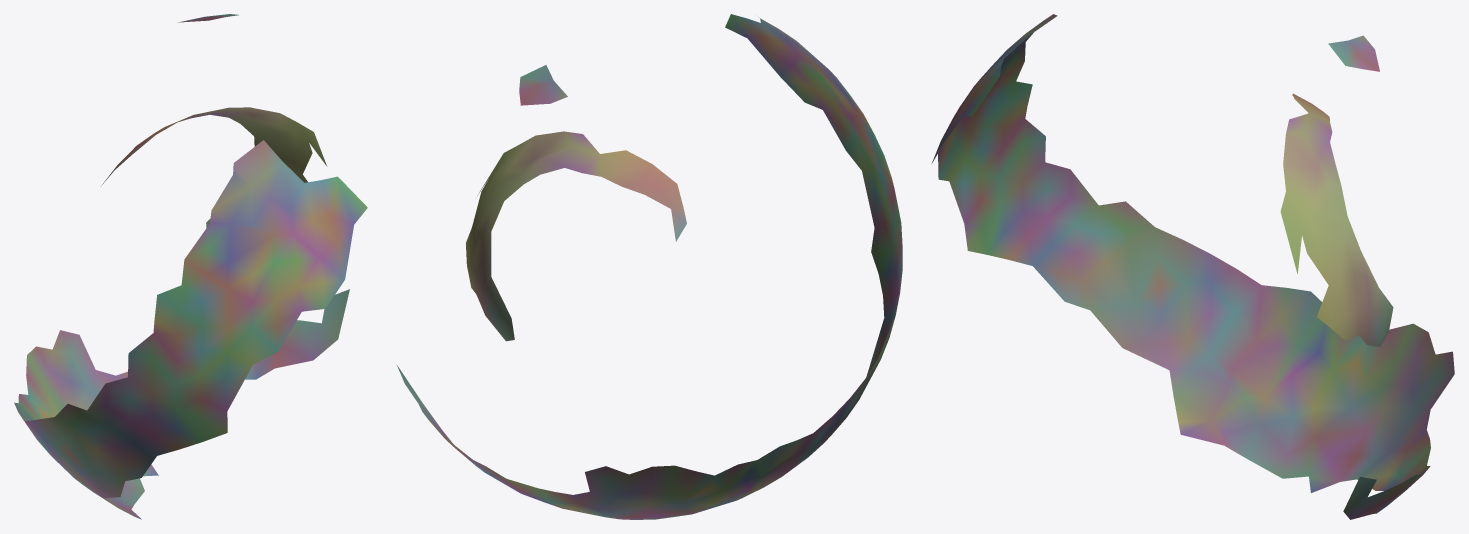
File: space-nebulae-nebula_v26.glb
3 renders of one model, left to right at view 1: azimuth 30°, elevation 25°; view 2: azimuth 150°, elevation 25°; view 3: azimuth 270°, elevation 25°, orthographic. The views are drawn at different scales.
Parts seen in each view (by area): view 1: Nebula_v26; view 2: Nebula_v26; view 3: Nebula_v26.
Boxes of the visible parts, left/top/right/bottom form: Nebula_v26: left=14, top=14, right=367, bottom=519; Nebula_v26: left=396, top=14, right=902, bottom=519; Nebula_v26: left=931, top=14, right=1454, bottom=519.
Size of the model in its own units: 0.4623 by 0.5 by 0.4813.
